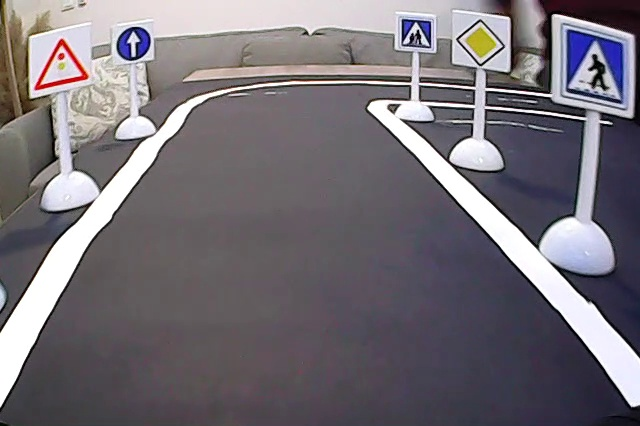pedestrian crossing: (560, 20, 630, 109)
red light: (30, 36, 94, 93)
school crossing: (397, 16, 436, 53)
